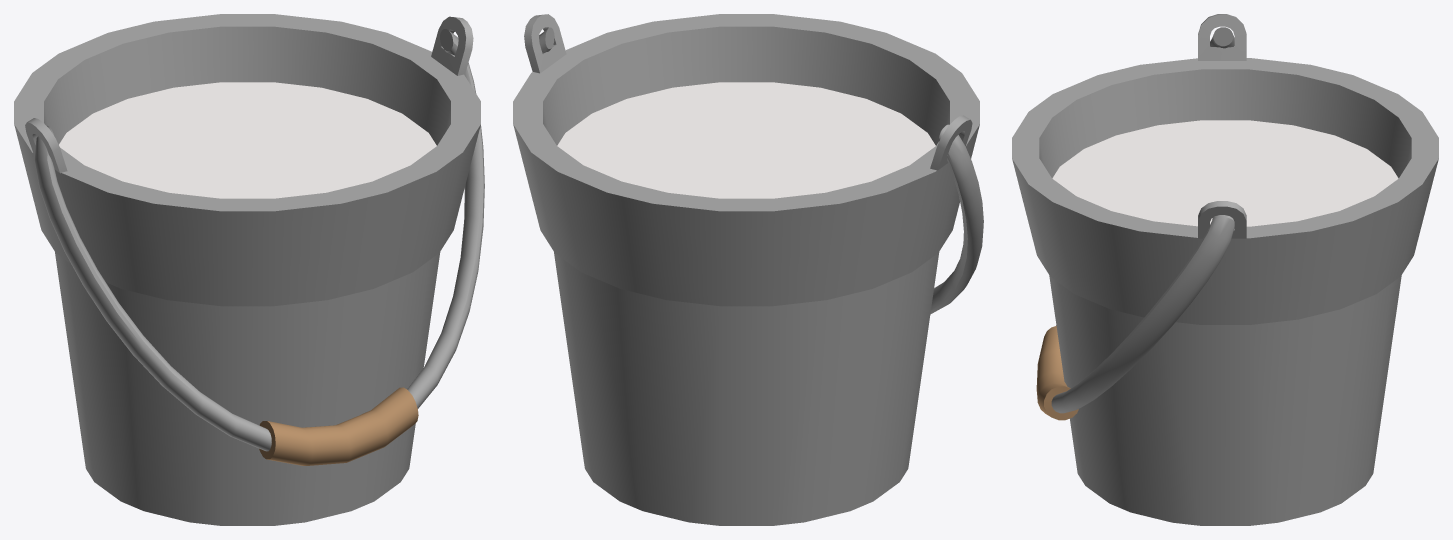
The model's file is model_baldeleite_01.fbx.
3 renders of one model, left to right at view 1: azimuth 30°, elevation 25°; view 2: azimuth 150°, elevation 25°; view 3: azimuth 270°, elevation 25°, orthographic. The views are drawn at different scales.
Parts seen in each view (by area): view 1: Balde de Leite.003; view 2: Balde de Leite.003; view 3: Balde de Leite.003.
Boxes of the visible parts, bbox=[...] form: Balde de Leite.003: bbox=[14, 14, 484, 525]; Balde de Leite.003: bbox=[513, 14, 983, 525]; Balde de Leite.003: bbox=[1012, 14, 1438, 525].
Bounding box in the file's own units: 0.6148 × 0.5295 × 0.5763.
